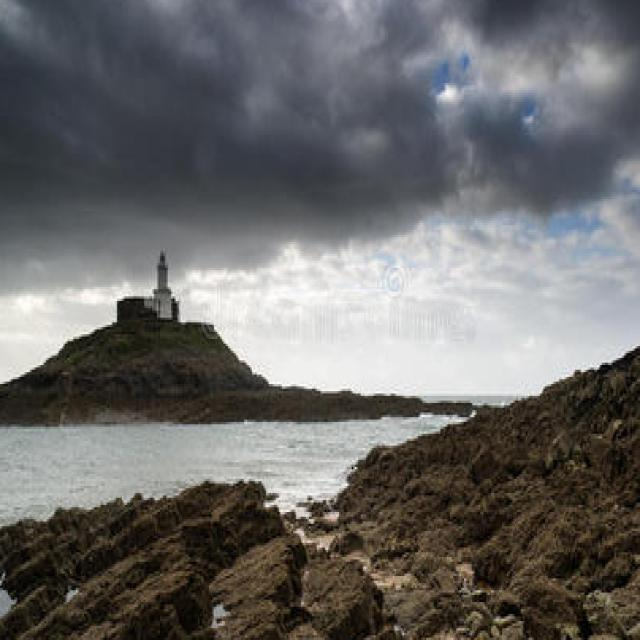island: (0, 228, 431, 436)
